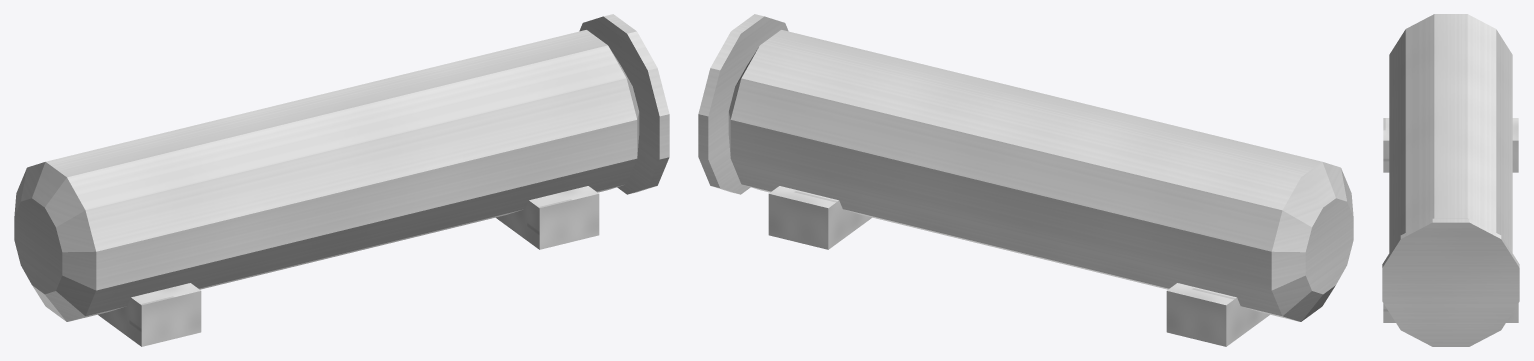
Rendered from ruin_pipe.obj.
The picture shows the model from 3 angles, left to right: view 1: azimuth 30°, elevation 25°; view 2: azimuth 150°, elevation 25°; view 3: azimuth 270°, elevation 25°; orthographic projection. The views are drawn at different scales.
Visible parts, largest first — view 1: ruin_pipe; view 2: ruin_pipe; view 3: ruin_pipe.
Part boxes in pixels (left/top/right/bottom): ruin_pipe: left=14, top=14, right=669, bottom=346; ruin_pipe: left=698, top=14, right=1353, bottom=346; ruin_pipe: left=1382, top=14, right=1519, bottom=346.
Bounding box in the file's own units: 2.95 × 0.7864 × 0.7728.
